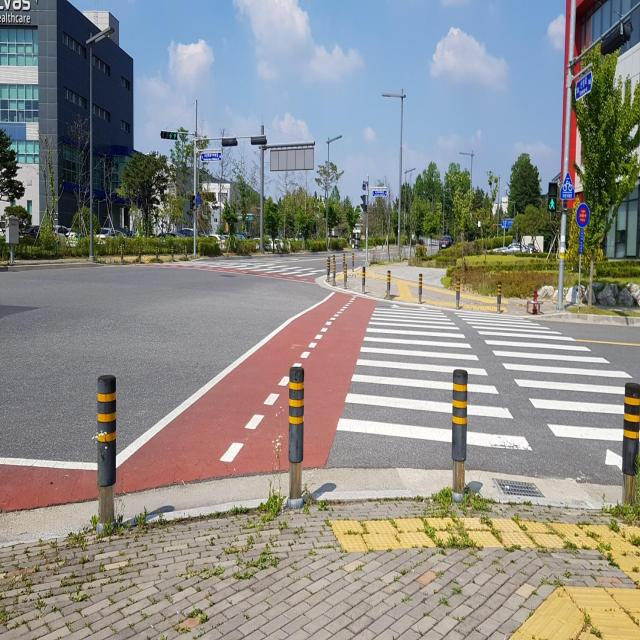횡단보도: (337, 304, 633, 476), (164, 256, 328, 284)
